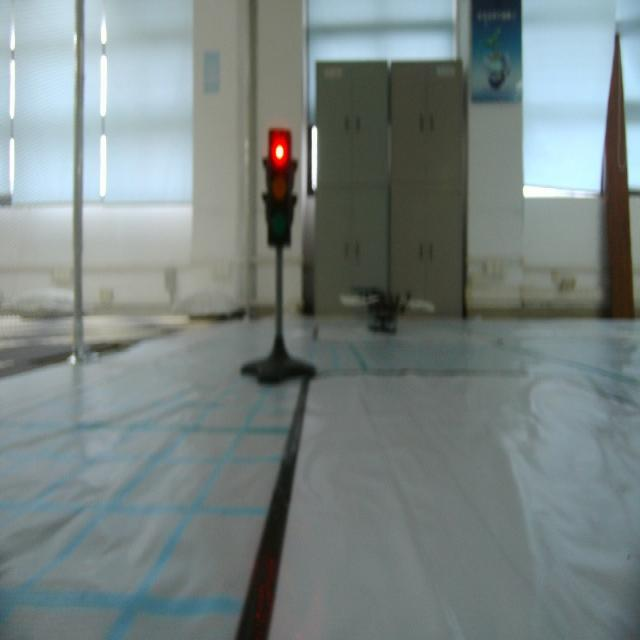red: (259, 122, 298, 264)
